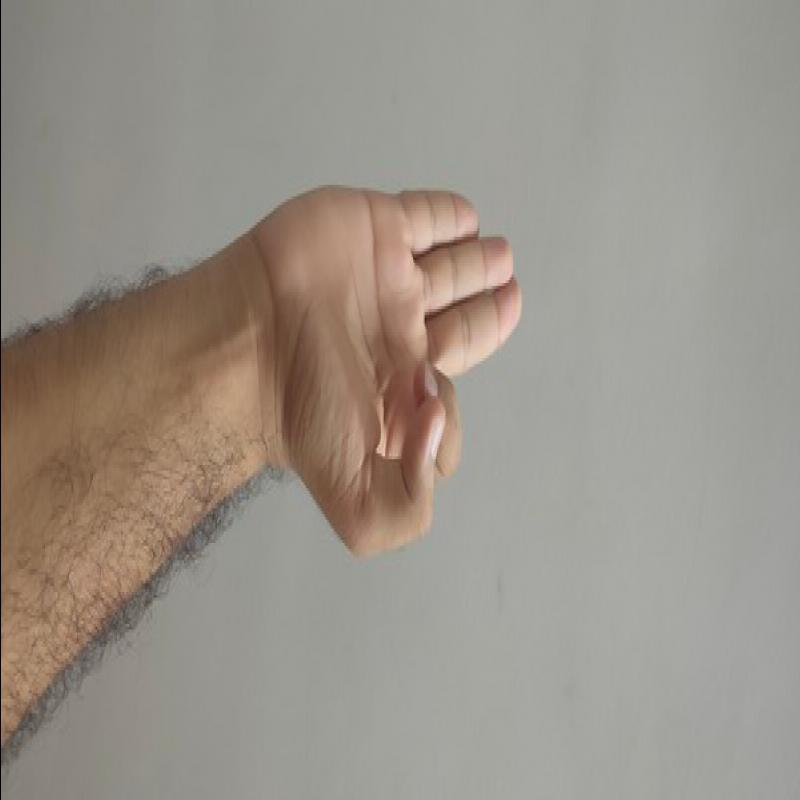Mudraakhyam: (237, 168, 538, 567)
